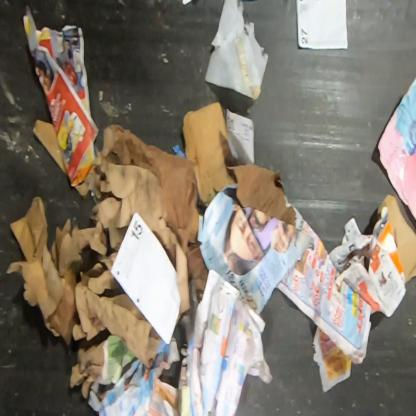cardboard: (6, 162, 191, 368), (94, 125, 208, 310), (181, 100, 238, 209), (227, 164, 295, 228), (371, 192, 415, 283), (32, 120, 67, 178)
